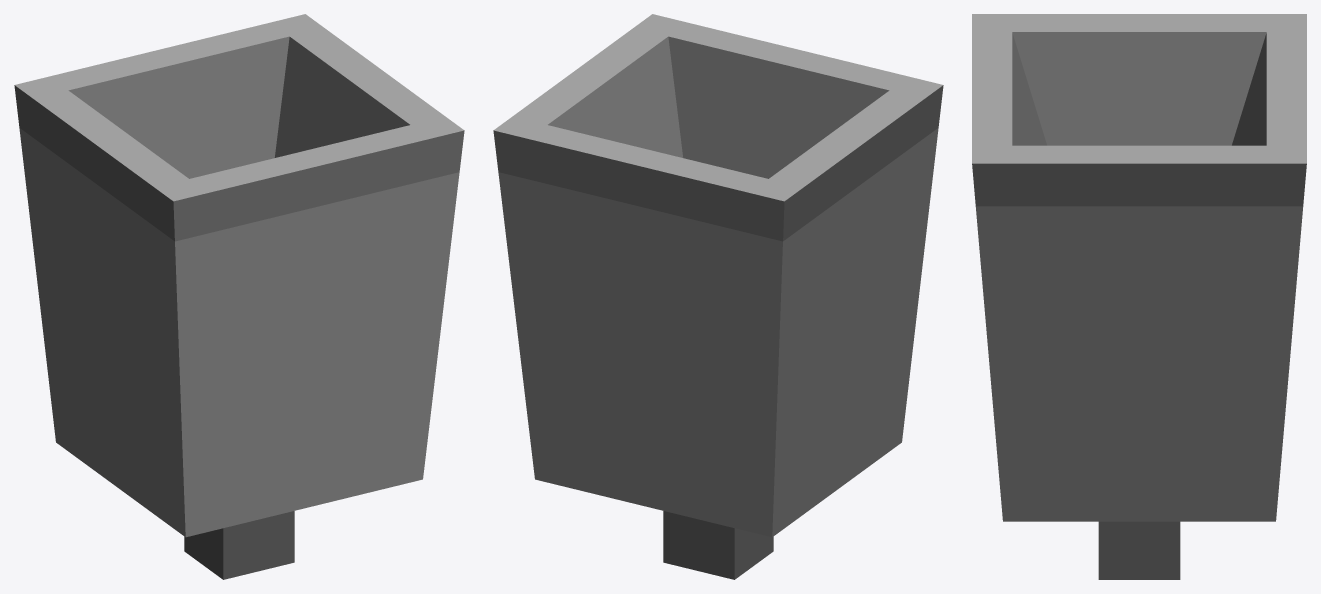
The model's file is bin_mesh.fbx.
3 views of the same model, side by side, from view 1: azimuth 30°, elevation 25°; view 2: azimuth 150°, elevation 25°; view 3: azimuth 270°, elevation 25° (orthographic). The views are drawn at different scales.
Visible parts, largest first — view 1: bin_mesh; view 2: bin_mesh; view 3: bin_mesh.
Boxes of the visible parts, left/top/right/bottom form: bin_mesh: left=14, top=14, right=464, bottom=579; bin_mesh: left=493, top=14, right=943, bottom=579; bin_mesh: left=972, top=14, right=1306, bottom=579.
Bounding box in the file's own units: 0.9478 × 1.4 × 0.8973.
